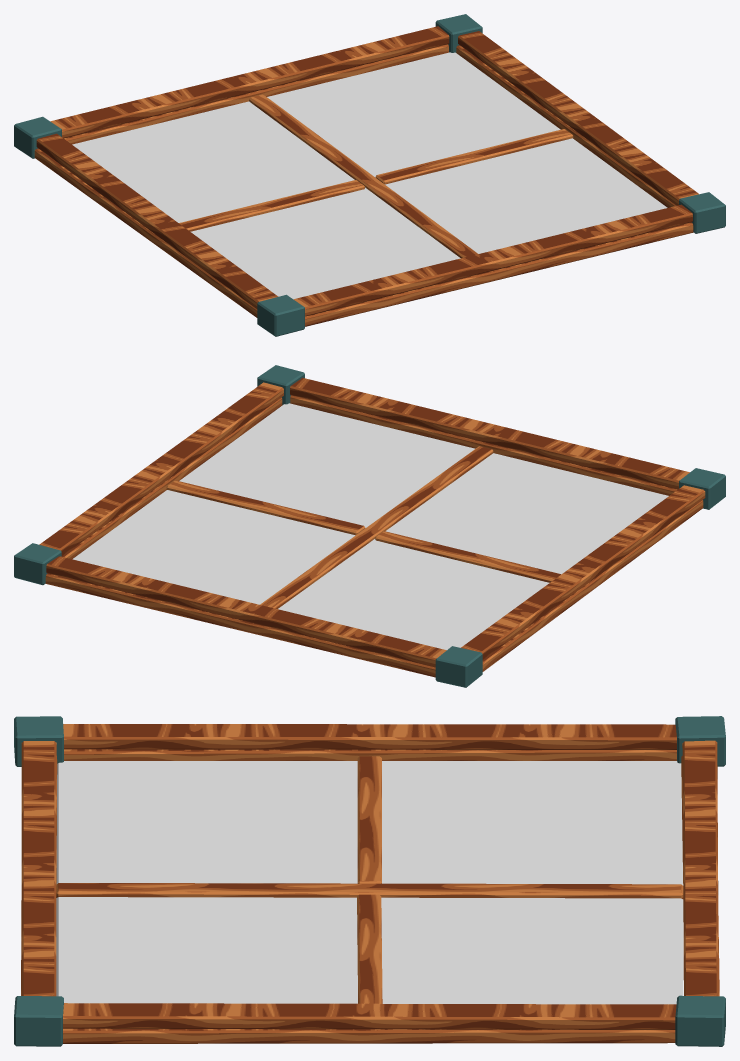
File: env_plot.fbx
The picture shows the model from 3 angles, top to bottom: view 1: azimuth 30°, elevation 25°; view 2: azimuth 150°, elevation 25°; view 3: azimuth 270°, elevation 25°; orthographic projection. The views are drawn at different scales.
Visible parts, largest first — view 1: env_plot; view 2: env_plot; view 3: env_plot.
Boxes of the visible parts, box(x1,y1,x2,y2) form: env_plot: box(14, 14, 725, 336); env_plot: box(14, 365, 725, 687); env_plot: box(14, 716, 725, 1046).
Bounding box in the file's own units: 4.09 × 0.2012 × 4.09.
